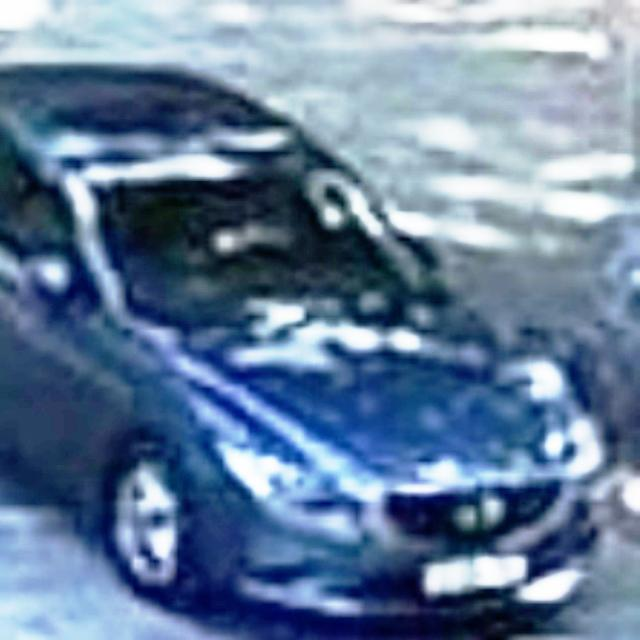Car: (0, 56, 610, 638)
